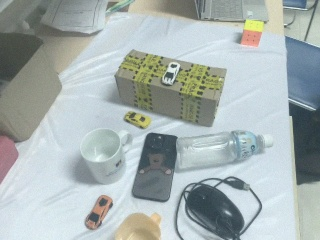bottle: (173, 126, 274, 170)
box: (116, 52, 227, 128), (1, 30, 62, 144)
cup: (75, 127, 128, 185), (111, 211, 163, 240)
mouse: (184, 182, 247, 240)
phone: (130, 129, 177, 202)
toy_car: (84, 194, 114, 231), (159, 61, 182, 86), (124, 111, 152, 129)
